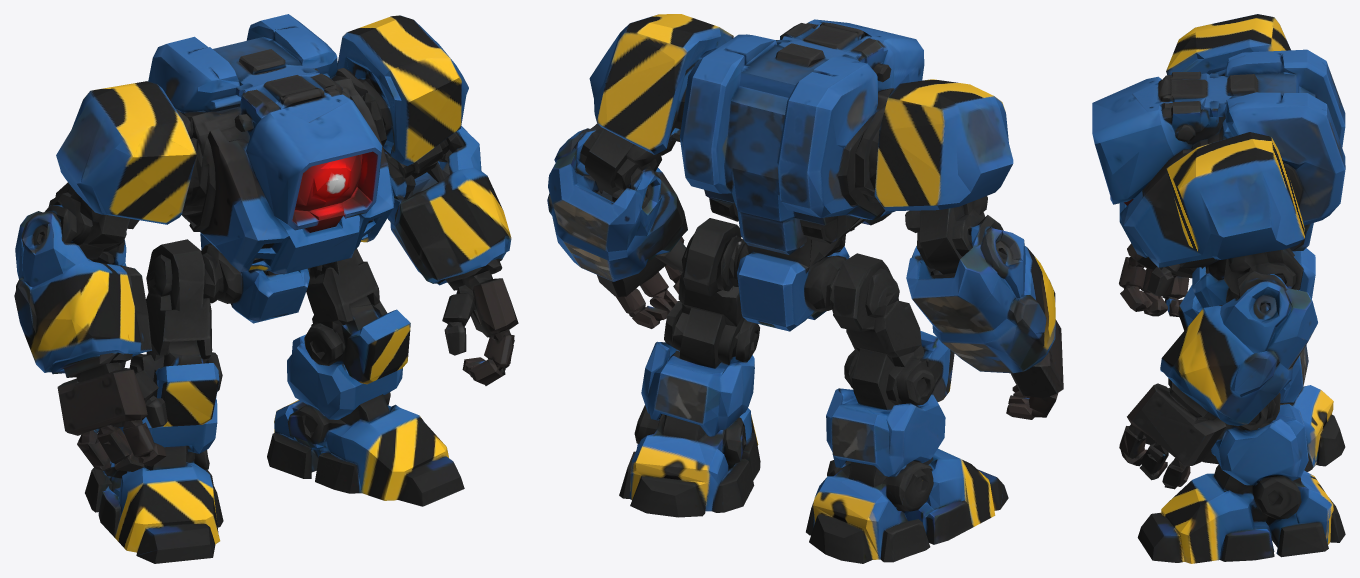
File: heavy_meshy_raw.fbx
3 views of the same model, side by side, from view 1: azimuth 30°, elevation 25°; view 2: azimuth 150°, elevation 25°; view 3: azimuth 270°, elevation 25° (orthographic). The views are drawn at different scales.
Parts seen in each view (by area): view 1: output_unwrapped; view 2: output_unwrapped; view 3: output_unwrapped.
Part boxes in pixels (bbox=[...]): output_unwrapped: bbox=[14, 14, 518, 563]; output_unwrapped: bbox=[547, 14, 1063, 563]; output_unwrapped: bbox=[1092, 14, 1345, 563].
Size of the model in its own units: 190 by 169 by 93.77.
1 material, 1 textured.
